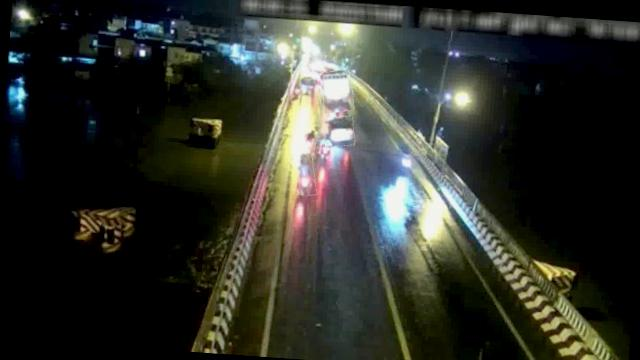Bike: (296, 152, 318, 196), (302, 128, 317, 154), (315, 136, 332, 156)
Car: (322, 114, 355, 148)
Truck: (318, 68, 354, 114)
